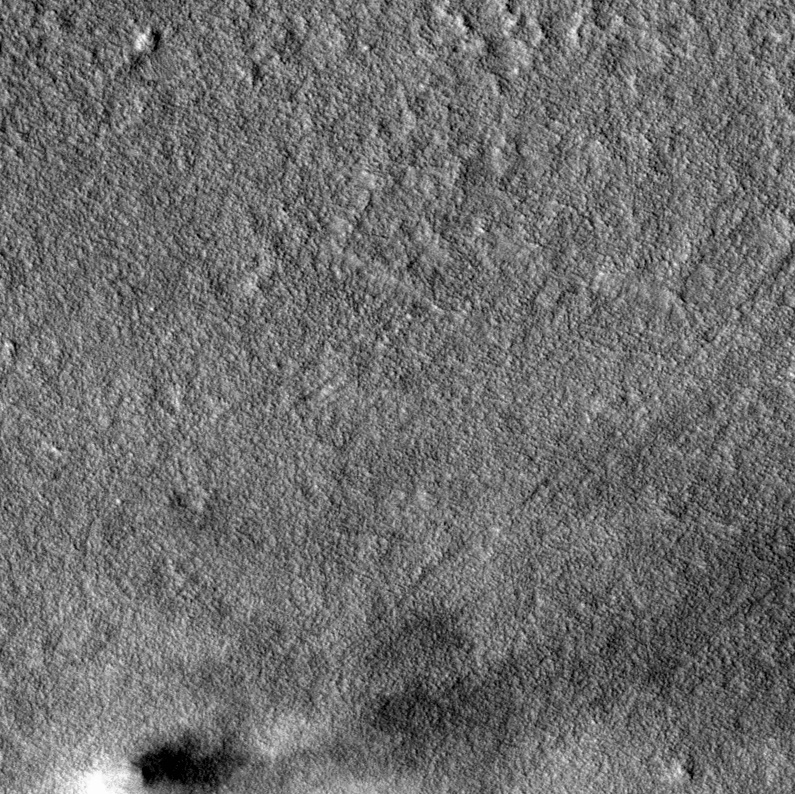dust_devil: (43, 489, 795, 794)
